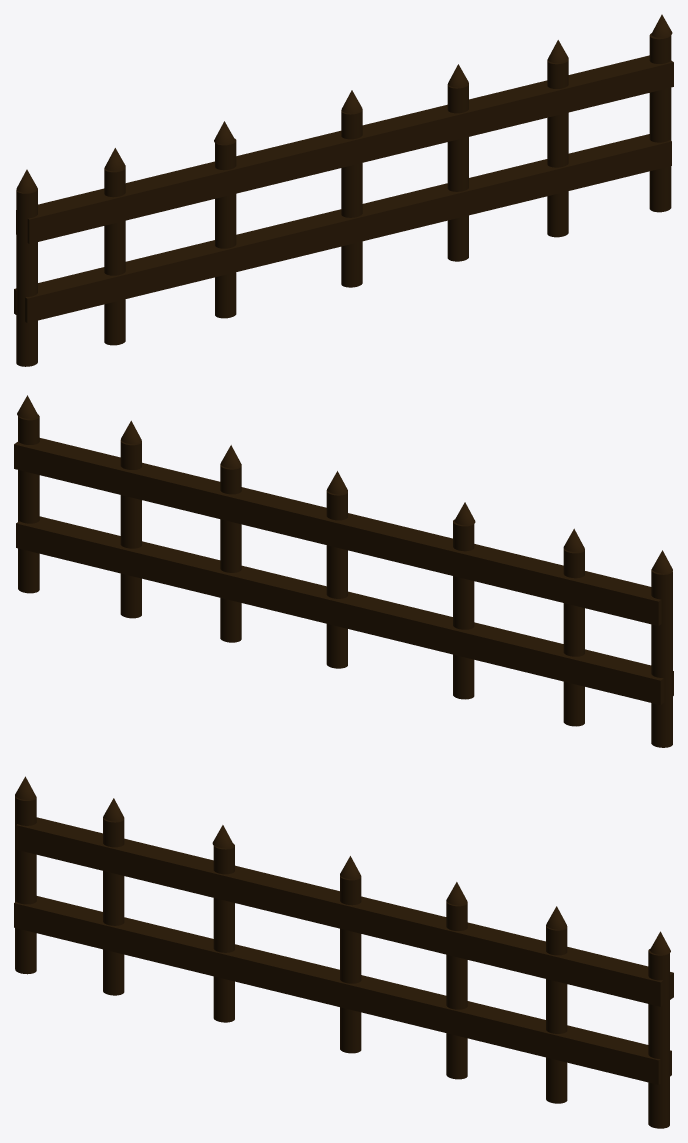
File: fence.fbx
The picture shows the model from 3 angles, top to bottom: view 1: azimuth 30°, elevation 25°; view 2: azimuth 150°, elevation 25°; view 3: azimuth 330°, elevation 25°; orthographic projection.
Visible parts, largest first — view 1: group11_pasted__polySurface1_pasted__polySurface4; view 2: group11_pasted__polySurface1_pasted__polySurface4; view 3: group11_pasted__polySurface1_pasted__polySurface4.
Part boxes in pixels (x1,y1,x2,y2): group11_pasted__polySurface1_pasted__polySurface4: (14,14,673,366); group11_pasted__polySurface1_pasted__polySurface4: (14,395,673,747); group11_pasted__polySurface1_pasted__polySurface4: (14,776,673,1128).
Bounding box in the file's own units: 0.0791 × 0.0224 × 0.00277.
